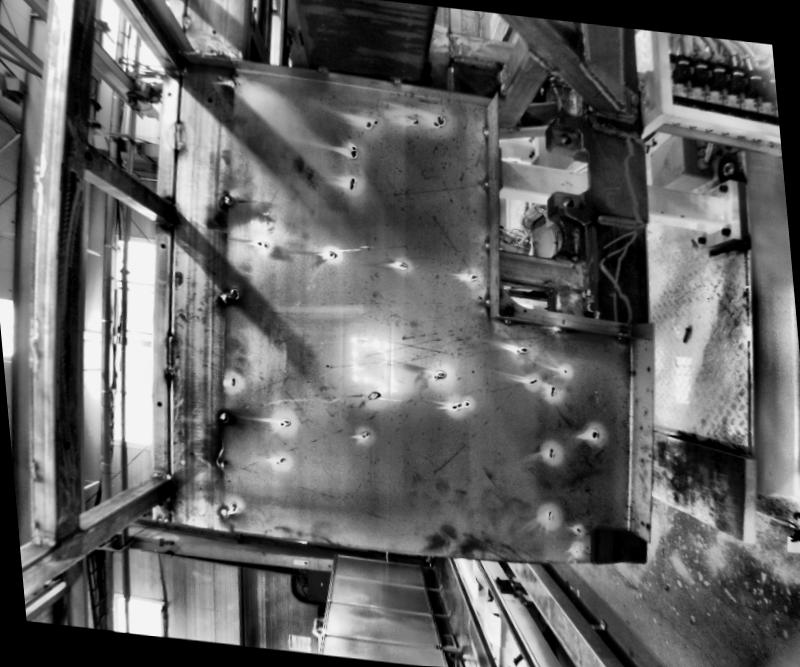hole: (209, 26, 222, 35), (159, 244, 169, 251), (156, 401, 164, 409), (167, 93, 172, 98), (208, 97, 213, 102)
welding: (166, 326, 181, 378), (172, 117, 186, 148), (217, 408, 235, 431), (179, 12, 194, 38), (223, 192, 240, 212), (391, 72, 410, 84), (480, 120, 494, 136), (220, 289, 234, 305), (216, 502, 230, 518), (170, 202, 180, 223), (481, 190, 494, 205), (609, 331, 629, 340), (482, 236, 492, 250), (552, 322, 572, 328), (483, 295, 491, 307), (324, 65, 336, 73), (496, 315, 506, 321)
